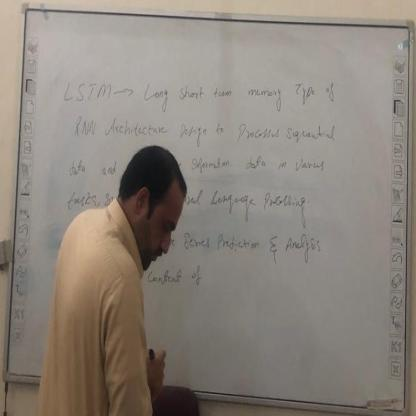Handwritten text: (60, 75, 344, 112), (69, 115, 342, 143), (180, 224, 334, 261), (183, 145, 332, 177), (210, 183, 321, 225), (65, 148, 122, 184)
Lecturer: (61, 140, 188, 416)
